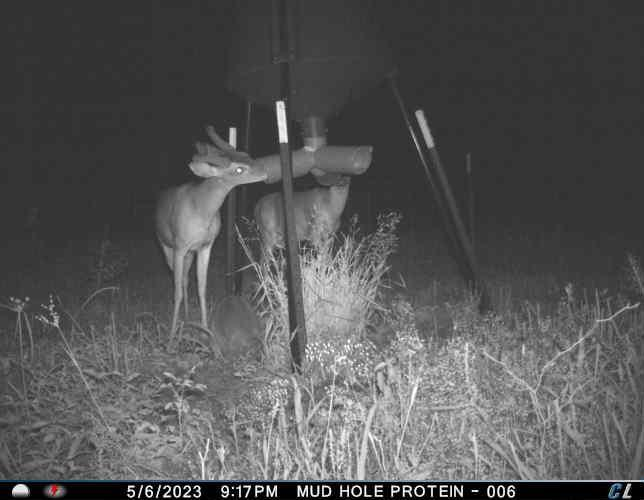Deer: (151, 123, 264, 354), (253, 172, 359, 269)
Raccoon: (206, 295, 271, 366)
